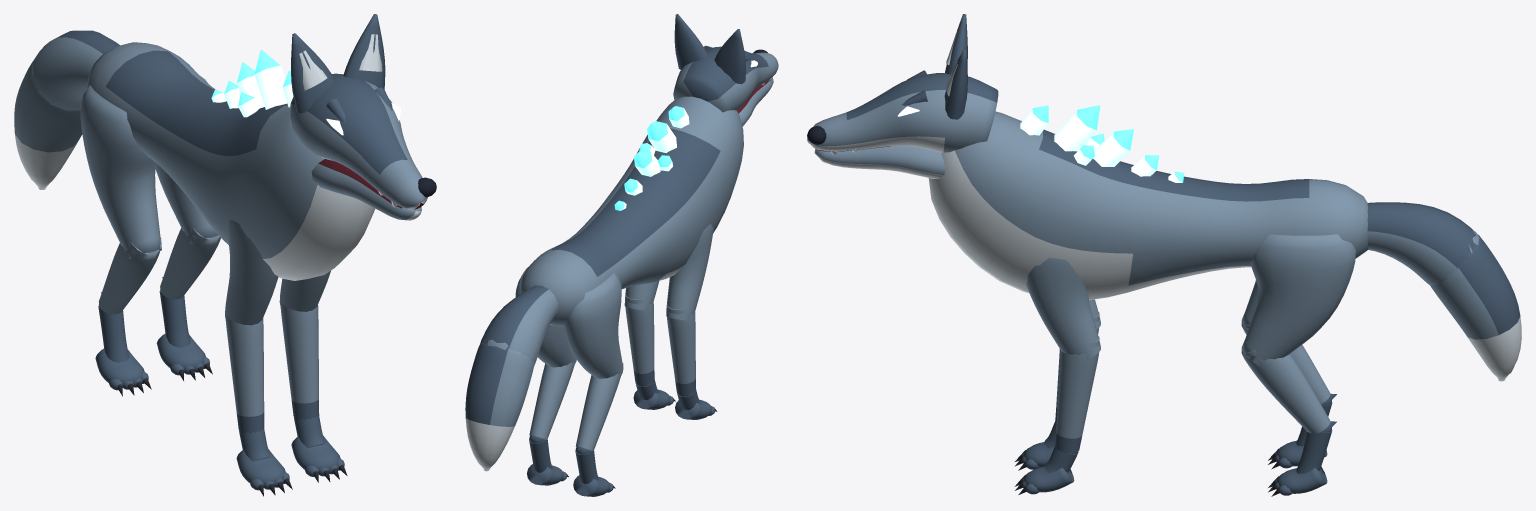
The model's file is wolf.glb.
3 views of the same model, side by side, from view 1: azimuth 30°, elevation 25°; view 2: azimuth 150°, elevation 25°; view 3: azimuth 270°, elevation 25° (orthographic). The views are drawn at different scales.
Visible parts, largest first — view 1: Torso, Skull, LegBR_Upper, TailTip, TailMesh, LegFR_Upper, LegFR_Lower, LegFL_Lower, LegBR_Lower, LegBL_Lower, JawMesh, LegBL_Upper (+15 smaller); view 2: Torso, TailTip, LegBR_Upper, Skull, TailMesh, LegFR_Upper, LegFL_Lower, LegFR_Lower, LegBR_Lower, LegBL_Lower, LegBL_Upper, EarR (+12 smaller); view 3: Torso, LegBL_Upper, Skull, TailTip, TailMesh, LegFL_Upper, LegBL_Lower, LegFL_Lower, JawMesh, Spine1, EarL, Spine2 (+4 smaller).
Part boxes in pixels (x1,y1,x2,y2): Torso: (87, 42, 375, 280); Skull: (289, 73, 427, 209); LegBR_Upper: (80, 85, 161, 258); TailTip: (14, 49, 82, 189); TailMesh: (32, 30, 119, 110); LegFR_Upper: (225, 219, 278, 325); LegFR_Lower: (225, 315, 264, 433); LegFL_Lower: (280, 297, 319, 419); LegBR_Lower: (98, 237, 161, 314); LegBL_Lower: (160, 228, 220, 299); JawMesh: (311, 158, 421, 220); LegBL_Upper: (155, 76, 218, 243); Torso: (520, 96, 743, 326); TailTip: (465, 342, 534, 471); LegBR_Upper: (563, 273, 623, 378); Skull: (673, 46, 778, 112); TailMesh: (480, 285, 558, 365); LegFR_Upper: (666, 224, 713, 320); LegFL_Lower: (625, 294, 654, 384); LegFR_Lower: (666, 304, 695, 395); LegBR_Lower: (575, 362, 623, 451); LegBL_Lower: (529, 359, 575, 439); LegBL_Upper: (515, 267, 576, 367); EarR: (714, 29, 745, 84); Torso: (928, 111, 1368, 300); LegBL_Upper: (1241, 234, 1355, 366); Skull: (807, 73, 998, 152); TailTip: (1430, 234, 1521, 381); TailMesh: (1367, 202, 1475, 285); LegFL_Upper: (1026, 257, 1100, 359); LegBL_Lower: (1241, 349, 1330, 433); LegFL_Lower: (1055, 336, 1099, 453); JawMesh: (814, 146, 945, 178); Spine1: (1054, 105, 1100, 151); EarL: (944, 49, 967, 119); Spine2: (1093, 129, 1133, 166).
Size of the model in its own units: 0.3575 by 1.44 by 2.09.
